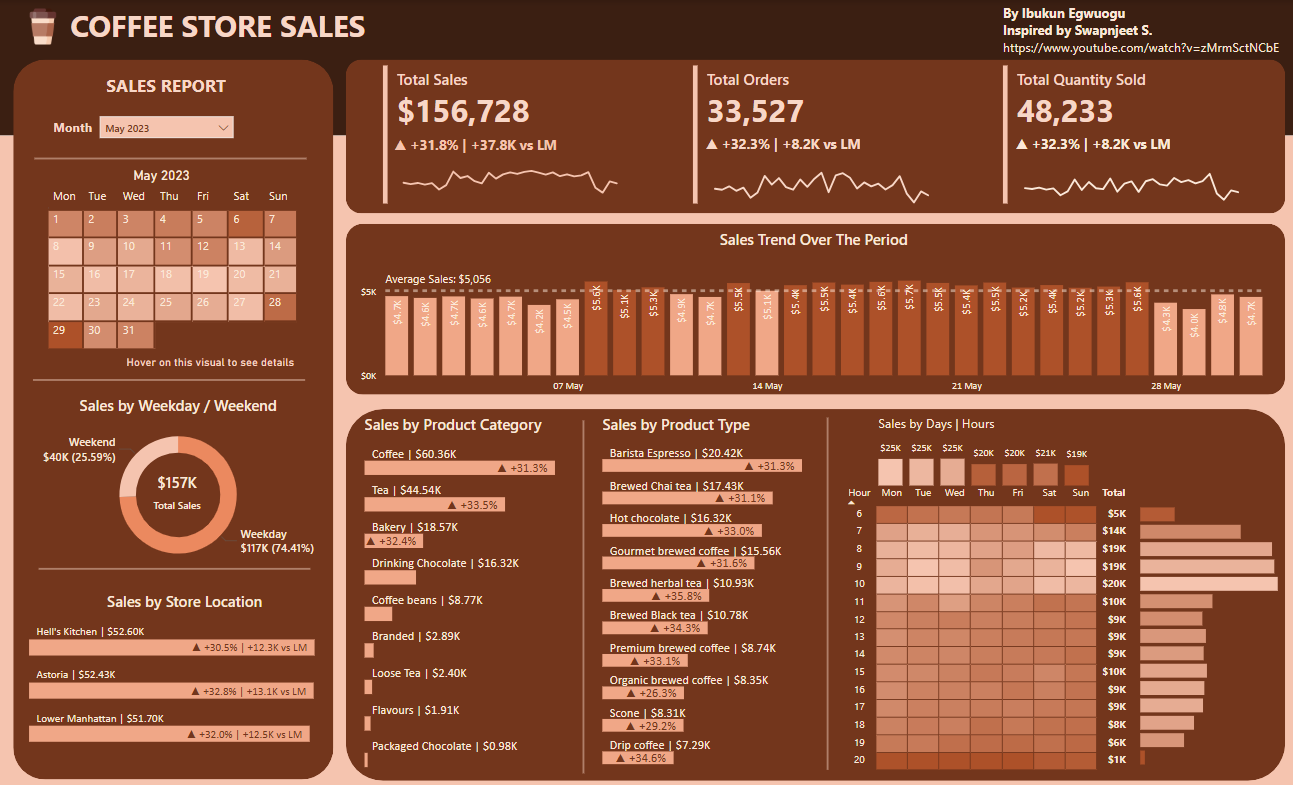

Layout of this report page (visuals, bound fields, positions):
{"tool":"powerbi","page":{"name":"DASHBOARD PAGE","canvas":[1400,850],"ordinal":1},"visuals":[{"type":"shape","box":[0,0,1399.5,146],"z":0},{"type":"cardVisual","fields":{"Data":["Transactions.Total Sales"]},"box":[409.3,66.1,275.2,159.4],"z":0,"group":"g1"},{"type":"cardVisual","fields":{"Data":["Transactions.Total Orders"]},"box":[743.7,66.1,275.2,159.4],"z":0,"group":"g2"},{"type":"cardVisual","fields":{"Data":["Transactions.Total Quantity Sold"]},"box":[1078.1,66.1,275.2,159.4],"z":0,"group":"g3"},{"type":"shape","box":[15.1,63.8,345.7,777],"z":1000},{"type":"lineChart","fields":{"Category":["Date Table.Date.Variation.Date Hierarchy.Year","Date Table.Date.Variation.Date Hierarchy.Quarter","Date Table.Date.Variation.Date Hierarchy.Month","Date Table.Date.Variation.Date Hierarchy.Day"],"Y":["Transactions.Total Orders"]},"box":[757.1,145,260,80],"z":1000,"group":"g2"},{"type":"lineChart","fields":{"Category":["Date Table.Date.Variation.Date Hierarchy.Year","Date Table.Date.Variation.Date Hierarchy.Quarter","Date Table.Date.Variation.Date Hierarchy.Month","Date Table.Date.Variation.Date Hierarchy.Day"],"Y":["Transactions.Total Quantity Sold"]},"box":[1091.5,145,260,80],"z":1000,"group":"g3"},{"type":"lineChart","fields":{"Category":["Date Table.Date.Variation.Date Hierarchy.Year","Date Table.Date.Variation.Date Hierarchy.Quarter","Date Table.Date.Variation.Date Hierarchy.Month","Date Table.Date.Variation.Date Hierarchy.Day"],"Y":["Transactions.Total Sales"]},"box":[422.2,146.4,260.1,80.5],"z":1000,"group":"g1"},{"type":"shape","box":[374.2,63.8,1013.5,166.1],"z":2000},{"type":"textbox","box":[72.2,0,337.3,57.1],"z":3000},{"type":"slicer","fields":{"Values":["Date Table.Month Year"]},"box":[104,120.8,154.4,33.6],"z":4000},{"type":"group","id":"g1","title":"Group 1","box":[409.3,66.1,275.2,160.8],"z":5000},{"type":"group","id":"g2","title":"Group 1","box":[743.7,66.1,275.2,159.4],"z":6000},{"type":"group","id":"g3","title":"Group 1","box":[1078.1,66.1,275.2,159.4],"z":7000},{"type":"pivotTable","fields":{"Rows":["Date Table.Week Number"],"Columns":["Date Table.Day Name"],"Values":["Min(Date Table.Day Number)"]},"box":[43.6,198,281.9,208.1],"z":8000},{"type":"card","fields":{"Values":["Min(Date Table.Month Year)"]},"box":[50.3,162.8,250,53.7],"z":9000},{"type":"shape","box":[36.9,394.3,293.6,31.9],"z":10000},{"type":"card","fields":{"Values":["Transactions.Foot Note"]},"box":[127.5,375.9,199.7,33.5],"z":11000},{"type":"shape","box":[38.6,154.4,293.6,33.5],"z":12000},{"type":"donutChart","title":"Sales by Weekday / Weekend","fields":{"Category":["Date Table.Weekday / Weekend"],"Y":["Transactions.Total Sales"]},"box":[13.4,426.2,359.1,194.6],"z":13000},{"type":"card","fields":{"Values":["Transactions.Total Sales"]},"box":[110.7,501.7,161.1,55.4],"z":14000},{"type":"shape","box":[42.6,596.6,293.5,33.1],"z":15000},{"type":"clusteredBarChart","title":"Sales by Store Location","fields":{"Category":["Transactions.store_location"],"Y":["Transactions.Placeholder","Transactions.Total Sales"]},"box":[26.8,637.7,345.7,169.5],"z":16000},{"type":"shape","box":[374.2,241.6,1013.5,184.6],"z":17000},{"type":"columnChart","title":"Sales Trend Over The Period","fields":{"Category":["Transactions.transaction_date"],"Y":["Transactions.Total Sales"]},"box":[384.3,246.7,988.4,184.6],"z":18000},{"type":"shape","box":[374.2,441.3,1013.5,401],"z":19000},{"type":"clusteredBarChart","title":"Sales by Product Category","fields":{"Y":["Transactions.Placeholder","Transactions.Total Sales"],"Category":["Transactions.product_category"]},"box":[389.3,448,250,385.9],"z":20000},{"type":"shape","box":[615.8,453.1,30.2,380.9],"z":21000},{"type":"clusteredBarChart","title":"Sales by Product Type","fields":{"Y":["Transactions.Placeholder","Transactions.Total Sales"],"Category":["Transactions.product_type"]},"box":[646,448,263.5,382.6],"z":22000},{"type":"shape","box":[878,450.1,31.7,380.4],"z":23000},{"type":"pivotTable","fields":{"Rows":["Transactions.Hour"],"Columns":["Date Table.Day Name"],"Values":["Transactions.Total Sales"]},"box":[905.3,519.4,320,316.9],"z":24000},{"type":"barChart","fields":{"Category":["Transactions.Hour"],"Y":["Transactions.Total Sales"]},"box":[1226.6,535.3,161.1,295.3],"z":25000},{"type":"clusteredColumnChart","title":"Sales by Days | Hours","fields":{"Y":["Transactions.Total Sales"],"Category":["Date Table.Day Name"]},"box":[944.6,446.9,237.7,82.4],"z":26000},{"type":"textbox","box":[53.7,124.2,63.8,31.9],"z":27000},{"type":"textbox","box":[0,73.8,360.8,36.9],"z":28000},{"type":"image","box":[23.5,0,48.7,57.1],"z":29000},{"type":"textbox","box":[1078.2,0,320.7,64.1],"z":30000}]}

Visuals, with their boxes in screenshot pixels (x1, y1, x2, y2), scaled from the page's 1400x850 canvas onto the 1293x785 screenshot:
shape: bbox(0, 0, 1292, 135)
cardVisual - Transactions.Total Sales: bbox(378, 61, 632, 208)
cardVisual - Transactions.Total Orders: bbox(687, 61, 941, 208)
cardVisual - Transactions.Total Quantity Sold: bbox(996, 61, 1250, 208)
shape: bbox(14, 59, 333, 777)
lineChart - Date Table.Date.Variation.Date Hierarchy.Year x Date Table.Date.Variation.Date Hierarchy.Quarter: bbox(699, 134, 939, 208)
lineChart - Date Table.Date.Variation.Date Hierarchy.Year x Date Table.Date.Variation.Date Hierarchy.Quarter: bbox(1008, 134, 1248, 208)
lineChart - Date Table.Date.Variation.Date Hierarchy.Year x Date Table.Date.Variation.Date Hierarchy.Quarter: bbox(390, 135, 630, 210)
shape: bbox(346, 59, 1282, 212)
textbox: bbox(67, 0, 378, 53)
slicer - Date Table.Month Year: bbox(96, 112, 239, 143)
"Group 1" group: bbox(378, 61, 632, 210)
"Group 1" group: bbox(687, 61, 941, 208)
"Group 1" group: bbox(996, 61, 1250, 208)
pivotTable - Date Table.Week Number x Date Table.Day Name: bbox(40, 183, 301, 375)
card - Min(Date Table.Month Year): bbox(46, 150, 277, 200)
shape: bbox(34, 364, 305, 394)
card - Transactions.Foot Note: bbox(118, 347, 302, 378)
shape: bbox(36, 143, 307, 174)
"Sales by Weekday / Weekend" donutChart: bbox(12, 394, 344, 573)
card - Transactions.Total Sales: bbox(102, 463, 251, 514)
shape: bbox(39, 551, 310, 582)
"Sales by Store Location" clusteredBarChart: bbox(25, 589, 344, 745)
shape: bbox(346, 223, 1282, 394)
"Sales Trend Over The Period" columnChart: bbox(355, 228, 1268, 398)
shape: bbox(346, 408, 1282, 778)
"Sales by Product Category" clusteredBarChart: bbox(360, 414, 590, 770)
shape: bbox(569, 418, 597, 770)
"Sales by Product Type" clusteredBarChart: bbox(597, 414, 840, 767)
shape: bbox(811, 416, 840, 767)
pivotTable - Transactions.Hour x Date Table.Day Name: bbox(836, 480, 1132, 772)
barChart - Transactions.Hour x Transactions.Total Sales: bbox(1133, 494, 1282, 767)
"Sales by Days | Hours" clusteredColumnChart: bbox(872, 413, 1092, 489)
textbox: bbox(50, 115, 109, 144)
textbox: bbox(0, 68, 333, 102)
image: bbox(22, 0, 67, 53)
textbox: bbox(996, 0, 1292, 59)
